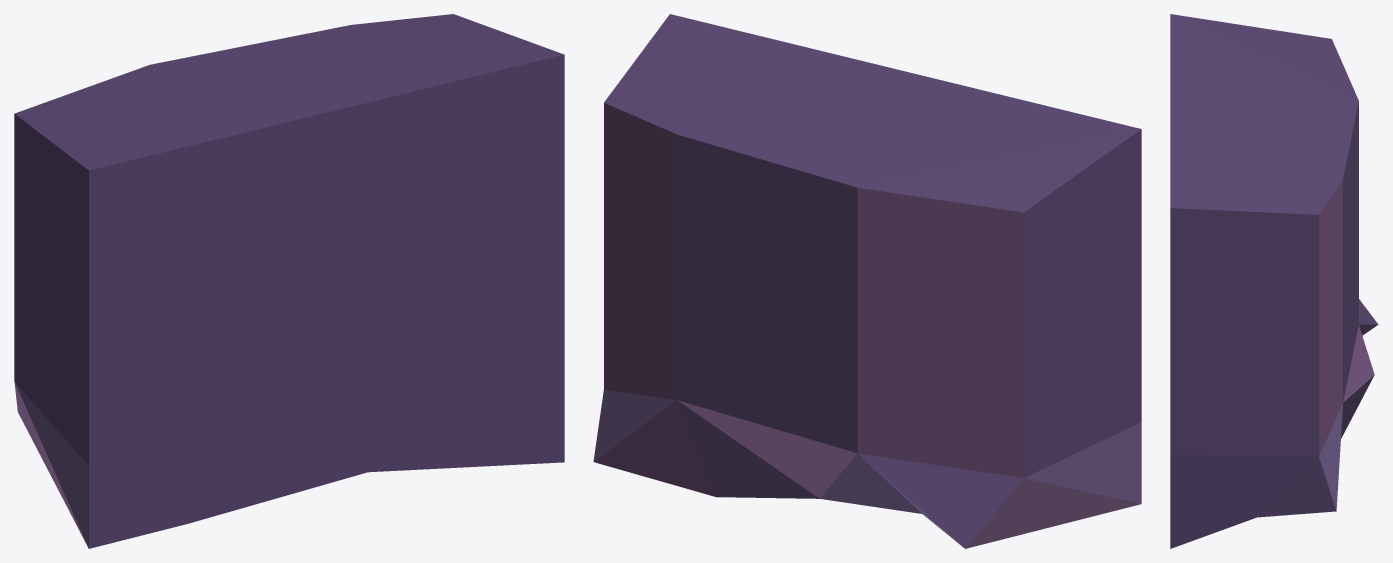
Rendered from guard_pink_2.fbx.
3 renders of one model, left to right at view 1: azimuth 30°, elevation 25°; view 2: azimuth 150°, elevation 25°; view 3: azimuth 270°, elevation 25°, orthographic. The views are drawn at different scales.
Visible parts, largest first — view 1: Cube; view 2: Cube; view 3: Cube.
Boxes of the visible parts, x1,y1,x2,y2 form: Cube: (14, 14, 564, 548); Cube: (593, 14, 1141, 548); Cube: (1170, 14, 1378, 548).
Size of the model in its own units: 1143 by 936 by 518.
